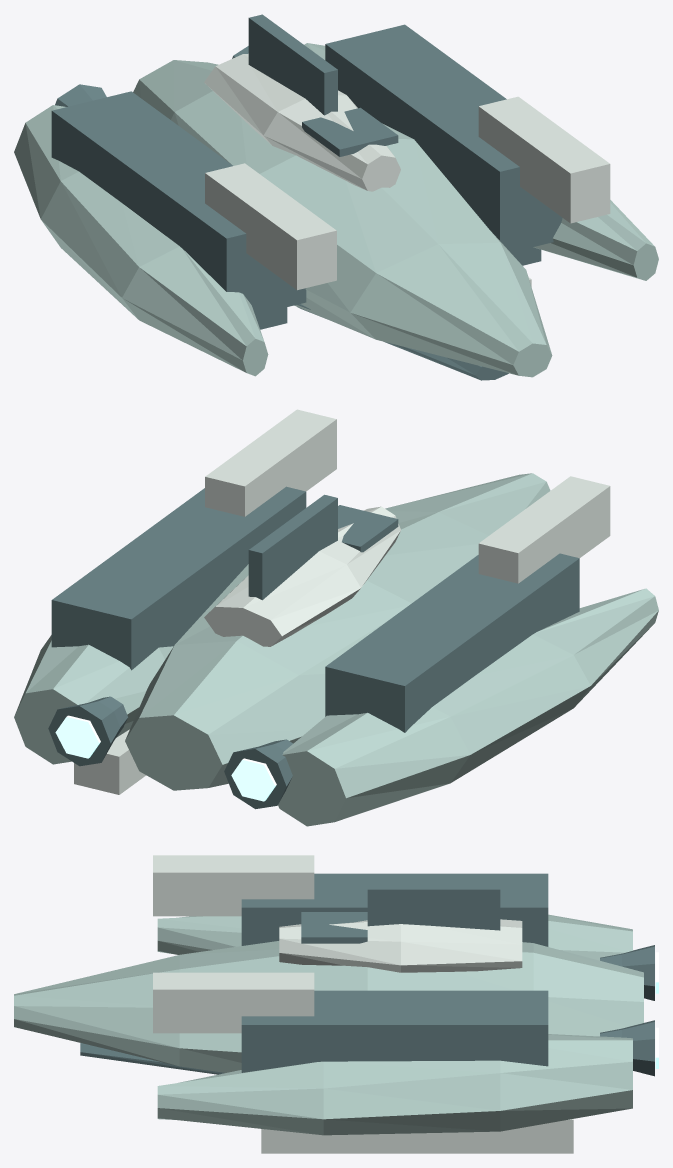
The picture shows the model from 3 angles, top to bottom: view 1: azimuth 30°, elevation 25°; view 2: azimuth 150°, elevation 25°; view 3: azimuth 270°, elevation 25°; orthographic projection. The views are drawn at different scales.
Bounding box in the file's own units: 11.77 × 5.66 × 15.99.
